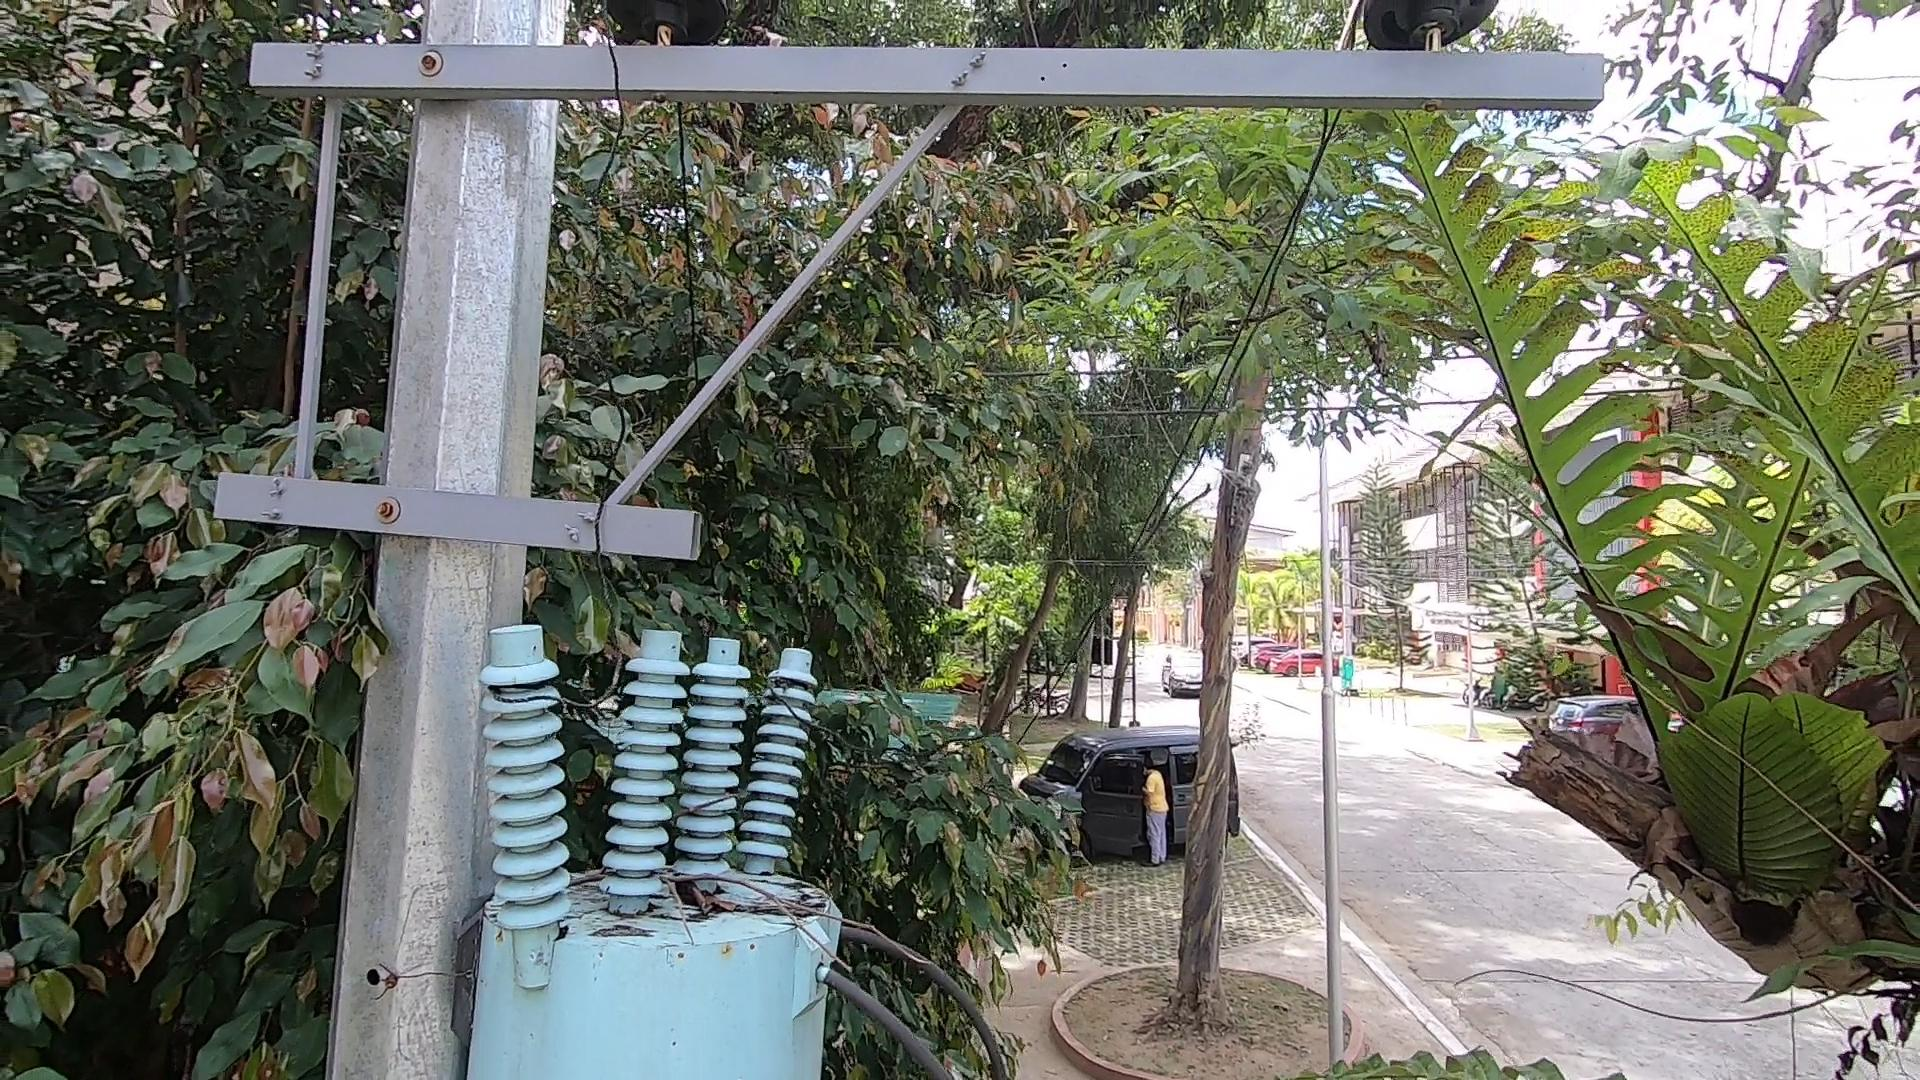leaf: (676, 862, 764, 938)
tree branch: (545, 848, 940, 1002)
